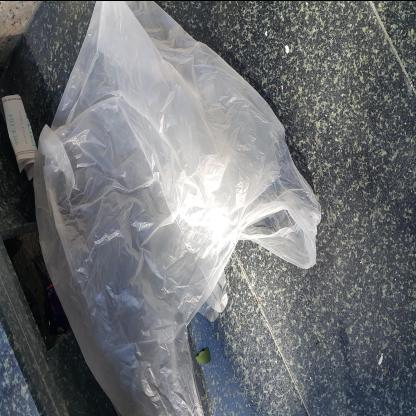plastik: (1, 35, 416, 324)
